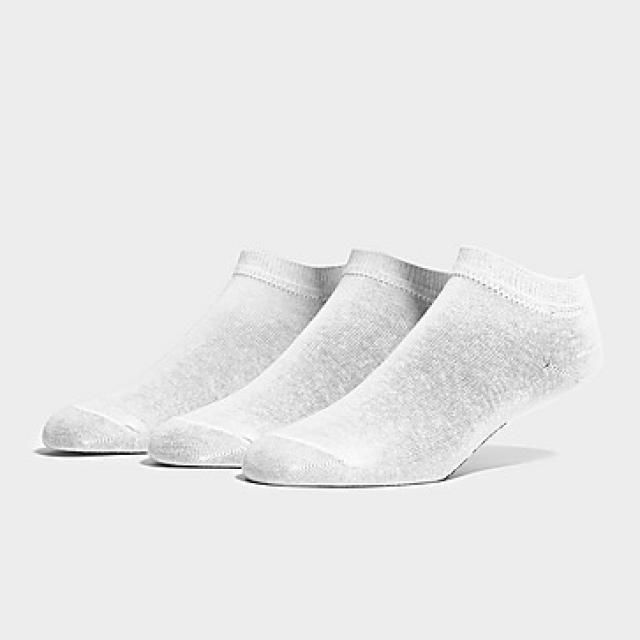sock: (240, 243, 601, 487), (146, 247, 455, 467), (38, 247, 346, 455)
